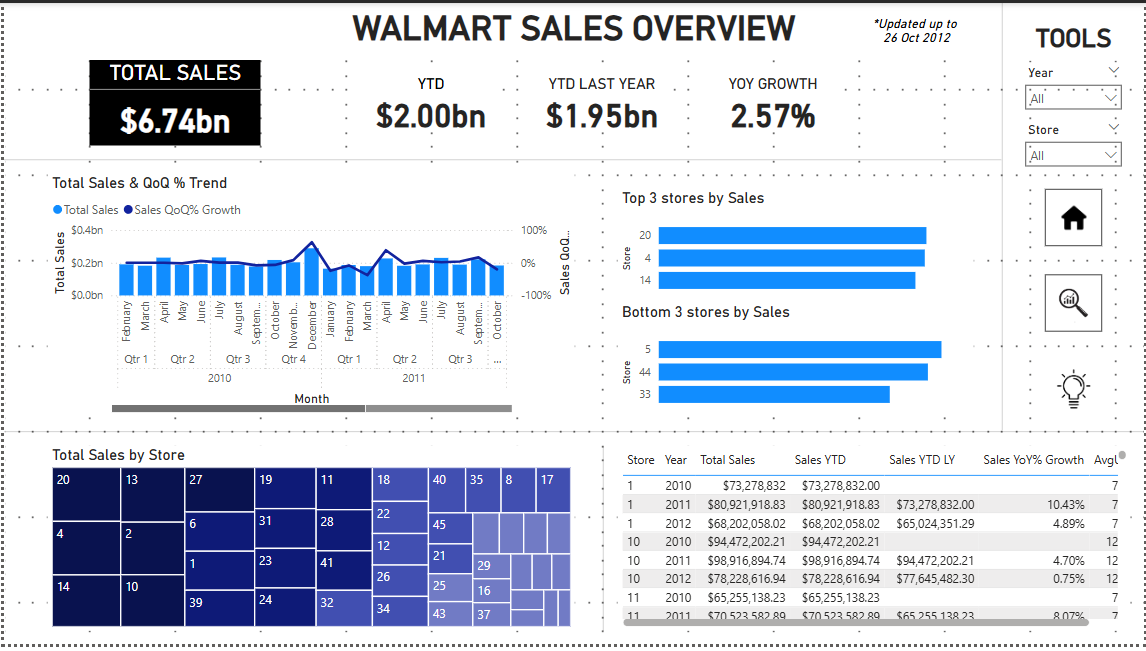

The page's visual inventory and layout, read from the dashboard file:
{"tool":"powerbi","page":{"name":"Page 1","canvas":[1280,720],"ordinal":0},"visuals":[{"type":"card","title":"YOY GROWTH","fields":{"Values":["_SalesMeasure.m_YoY_%"]},"box":[783.7,80.6,160,64],"z":0},{"type":"card","title":"YTD LAST YEAR","fields":{"Values":["_SalesMeasure.m_Sales_YTD_LY"]},"box":[591.7,80.6,160,64],"z":1000},{"type":"card","title":"YTD","fields":{"Values":["_SalesMeasure.m_Sales_YTD"]},"box":[399.7,80.6,160,64],"z":2000},{"type":"lineStackedColumnComboChart","title":"Total Sales & QoQ % Trend","fields":{"Y":["_SalesMeasure.m_Sales"],"Y2":["_SalesMeasure.m_Sales QoQ%"],"Category":["Date.Date.Variation.Date Hierarchy.Year","Date.Date.Variation.Date Hierarchy.Quarter","Date.Date.Variation.Date Hierarchy.Month"]},"box":[48,192,592,272],"z":3000},{"type":"slicer","fields":{"Values":["Date.Year"]},"box":[1136,64,128,80],"z":4000},{"type":"treemap","title":"Total Sales by Store","fields":{"Group":["Walmart.Store"],"Values":["_SalesMeasure.m_Sales"]},"box":[48,496,592,208],"z":5000},{"type":"clusteredBarChart","title":"Top 3 stores by Sales","fields":{"Category":["Walmart.Store"],"Y":["_SalesMeasure.m_Sales"]},"box":[688,208,400,128],"z":6000},{"type":"tableEx","fields":{"Values":["Walmart.Store","Date.Year","_SalesMeasure.m_Sales","_SalesMeasure.m_Sales_YTD","_SalesMeasure.m_Sales_YTD_LY","_SalesMeasure.m_YoY_%","Holiday_Uplift.AvgUplift"]},"box":[688,496,576,208],"z":7000},{"type":"slicer","fields":{"Values":["Walmart.Store"]},"box":[1136,128,128,80],"z":8000},{"type":"image","box":[1168,208,64,64],"z":9000},{"type":"textbox","box":[0,0,1280,64],"z":10000},{"type":"clusteredBarChart","title":"Bottom 3 stores by Sales","fields":{"Category":["Walmart.Store"],"Y":["_SalesMeasure.m_Sales"]},"box":[688,336,400,128],"z":11000},{"type":"card","title":"TOTAL SALES","fields":{"Values":["_SalesMeasure.m_Sales"]},"box":[95.7,64.6,192,96],"z":12000},{"type":"shape","box":[0,160,1120,32],"z":13000},{"type":"shape","box":[0,474,1280,16],"z":14000},{"type":"shape","box":[656,496,32,208],"z":15000},{"type":"shape","box":[1104,0,32,480],"z":16000},{"type":"image","box":[1168,304,64,64],"z":17000},{"type":"image","box":[1168,400,64,64],"z":18000},{"type":"textbox","box":[1136,16,128,48],"z":19000},{"type":"card","fields":{"Values":["_SalesMeasure.m_UpdatedUpTo"]},"box":[960,0,128,64],"z":20000}]}

Visuals, with their boxes in screenshot pixels (x1, y1, x2, y2), scaled from the page's 1280x720 canvas onto the 1146x651 screenshot:
"YOY GROWTH" card: locate(702, 73, 845, 131)
"YTD LAST YEAR" card: locate(530, 73, 673, 131)
"YTD" card: locate(358, 73, 501, 131)
"Total Sales & QoQ % Trend" lineStackedColumnComboChart: locate(43, 174, 573, 420)
slicer - Date.Year: locate(1017, 58, 1132, 130)
"Total Sales by Store" treemap: locate(43, 448, 573, 637)
"Top 3 stores by Sales" clusteredBarChart: locate(616, 188, 974, 304)
tableEx - Walmart.Store x Date.Year: locate(616, 448, 1132, 637)
slicer - Walmart.Store: locate(1017, 116, 1132, 188)
image: locate(1046, 188, 1103, 246)
textbox: locate(0, 0, 1145, 58)
"Bottom 3 stores by Sales" clusteredBarChart: locate(616, 304, 974, 420)
"TOTAL SALES" card: locate(86, 58, 258, 145)
shape: locate(0, 145, 1003, 174)
shape: locate(0, 429, 1145, 443)
shape: locate(587, 448, 616, 637)
shape: locate(988, 0, 1017, 434)
image: locate(1046, 275, 1103, 333)
image: locate(1046, 362, 1103, 420)
textbox: locate(1017, 14, 1132, 58)
card - _SalesMeasure.m_UpdatedUpTo: locate(860, 0, 974, 58)
